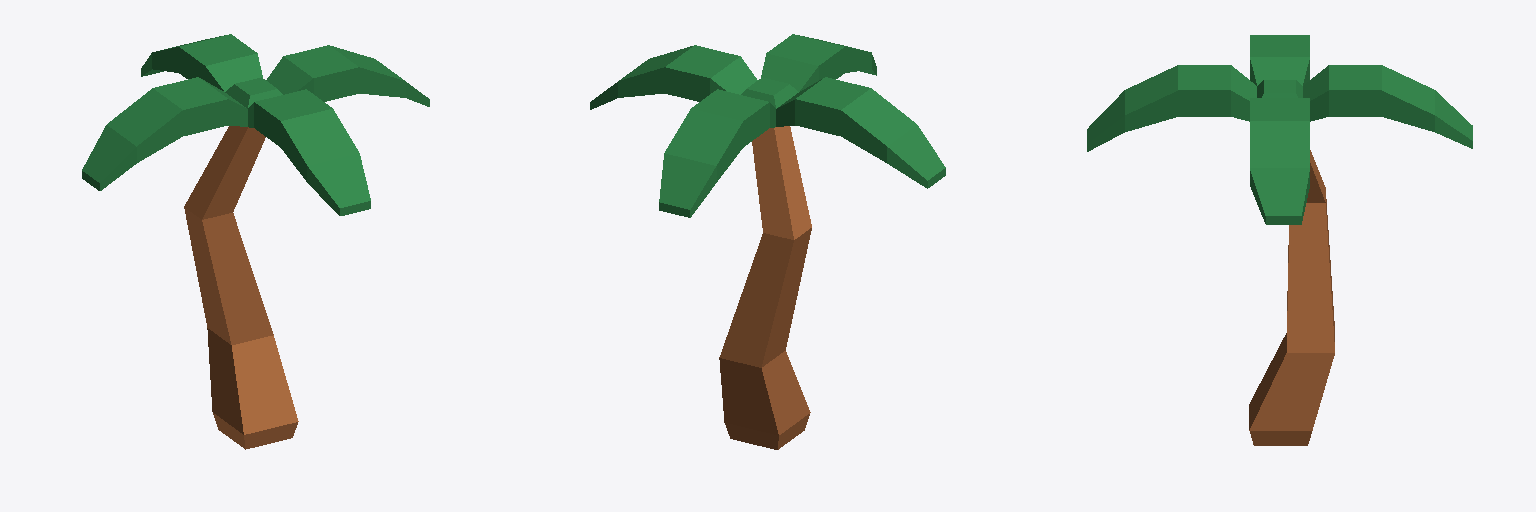
File: palm_short.obj
3 views of the same model, side by side, from view 1: azimuth 30°, elevation 25°; view 2: azimuth 150°, elevation 25°; view 3: azimuth 270°, elevation 25° (orthographic).
Parts seen in each view (by area): view 1: Group 25, Group 23; view 2: Group 25, Group 23; view 3: Group 25, Group 23.
Boxes of the visible parts, x1,y1,x2,y2 form: Group 25: [82, 34, 429, 215]; Group 23: [184, 126, 298, 449]; Group 25: [590, 34, 945, 217]; Group 23: [719, 126, 811, 449]; Group 25: [1087, 35, 1472, 224]; Group 23: [1249, 150, 1334, 445].
Bounding box in the file's own units: 15.44 × 15.76 × 15.44.